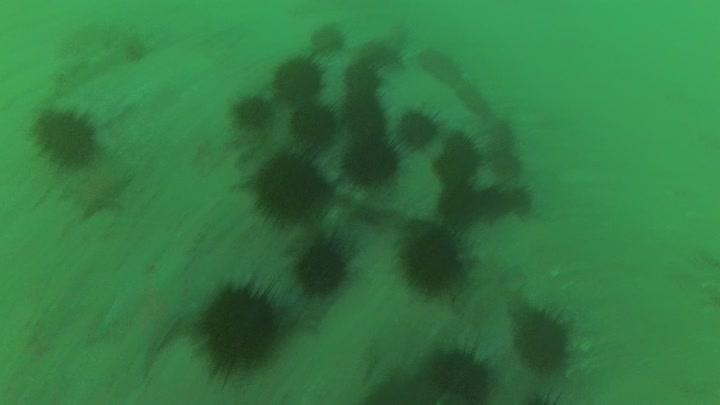echinus: (193, 271, 291, 393), (240, 145, 346, 238), (397, 218, 477, 304), (507, 294, 578, 381), (287, 227, 358, 308), (27, 103, 109, 172), (428, 337, 497, 405), (337, 131, 408, 196), (268, 50, 334, 109), (286, 98, 344, 152), (339, 97, 391, 145), (437, 182, 484, 235), (226, 91, 280, 135), (393, 107, 443, 152), (435, 147, 486, 188), (361, 375, 429, 405), (338, 62, 385, 96), (474, 184, 513, 224), (443, 127, 479, 161), (507, 183, 539, 217), (520, 390, 574, 405)
starfish: (88, 253, 200, 379), (57, 157, 136, 222)
